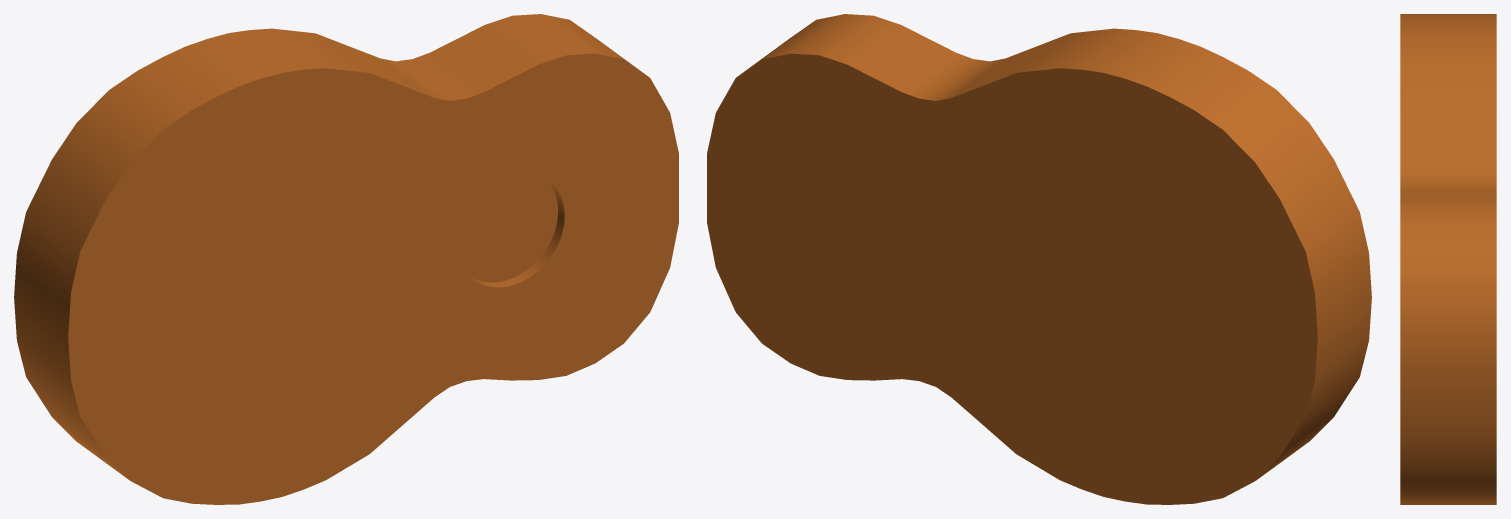
File: GuitarBody.fbx
3 views of the same model, side by side, from view 1: azimuth 30°, elevation 25°; view 2: azimuth 150°, elevation 25°; view 3: azimuth 270°, elevation 25° (orthographic). The views are drawn at different scales.
Visible parts, largest first — view 1: Plane.039; view 2: Plane.039; view 3: Plane.039.
Part boxes in pixels (bbox=[...]): Plane.039: bbox=[14, 14, 678, 504]; Plane.039: bbox=[707, 14, 1371, 504]; Plane.039: bbox=[1400, 14, 1496, 504].
Bounding box in the file's own units: 3.49 × 2.31 × 0.535.
